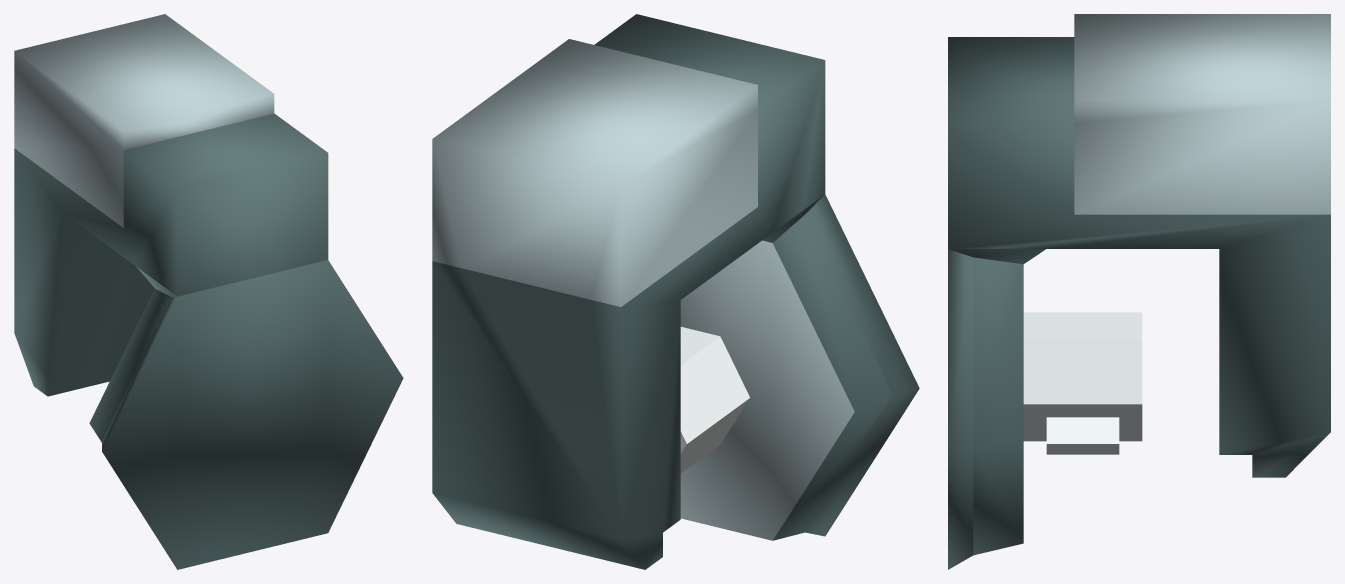
The model's file is kitchenCoffeeMachine.001.obj.
3 views of the same model, side by side, from view 1: azimuth 30°, elevation 25°; view 2: azimuth 150°, elevation 25°; view 3: azimuth 270°, elevation 25° (orthographic). The views are drawn at different scales.
Parts seen in each view (by area): view 1: kitchenCoffeeMachine; view 2: kitchenCoffeeMachine; view 3: kitchenCoffeeMachine.
Boxes of the visible parts, bbox=[...] form: kitchenCoffeeMachine: bbox=[14, 14, 403, 569]; kitchenCoffeeMachine: bbox=[432, 14, 919, 569]; kitchenCoffeeMachine: bbox=[948, 14, 1330, 569].
Bounding box in the file's own units: 0.1895 × 0.2402 × 0.1775.
